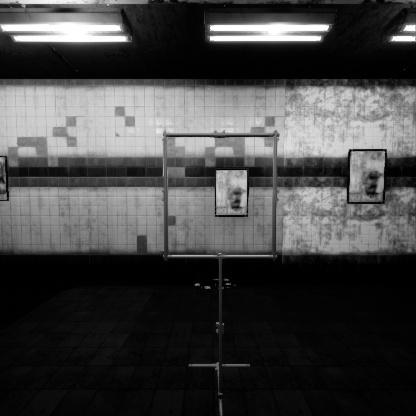gate: (163, 155, 289, 284)
